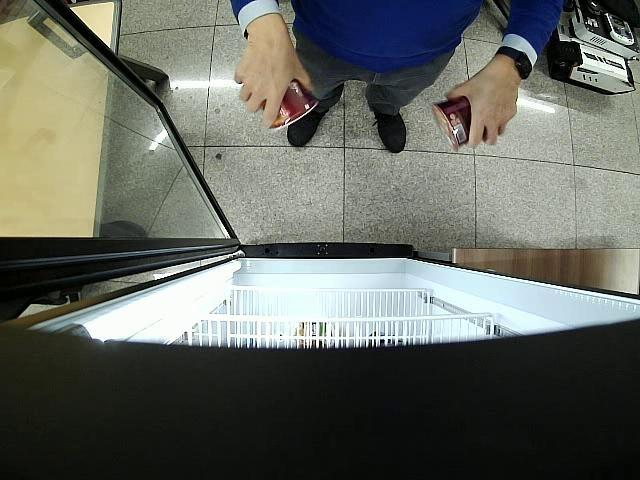06_nuguri_S: (270, 81, 318, 130), (432, 97, 472, 151)
